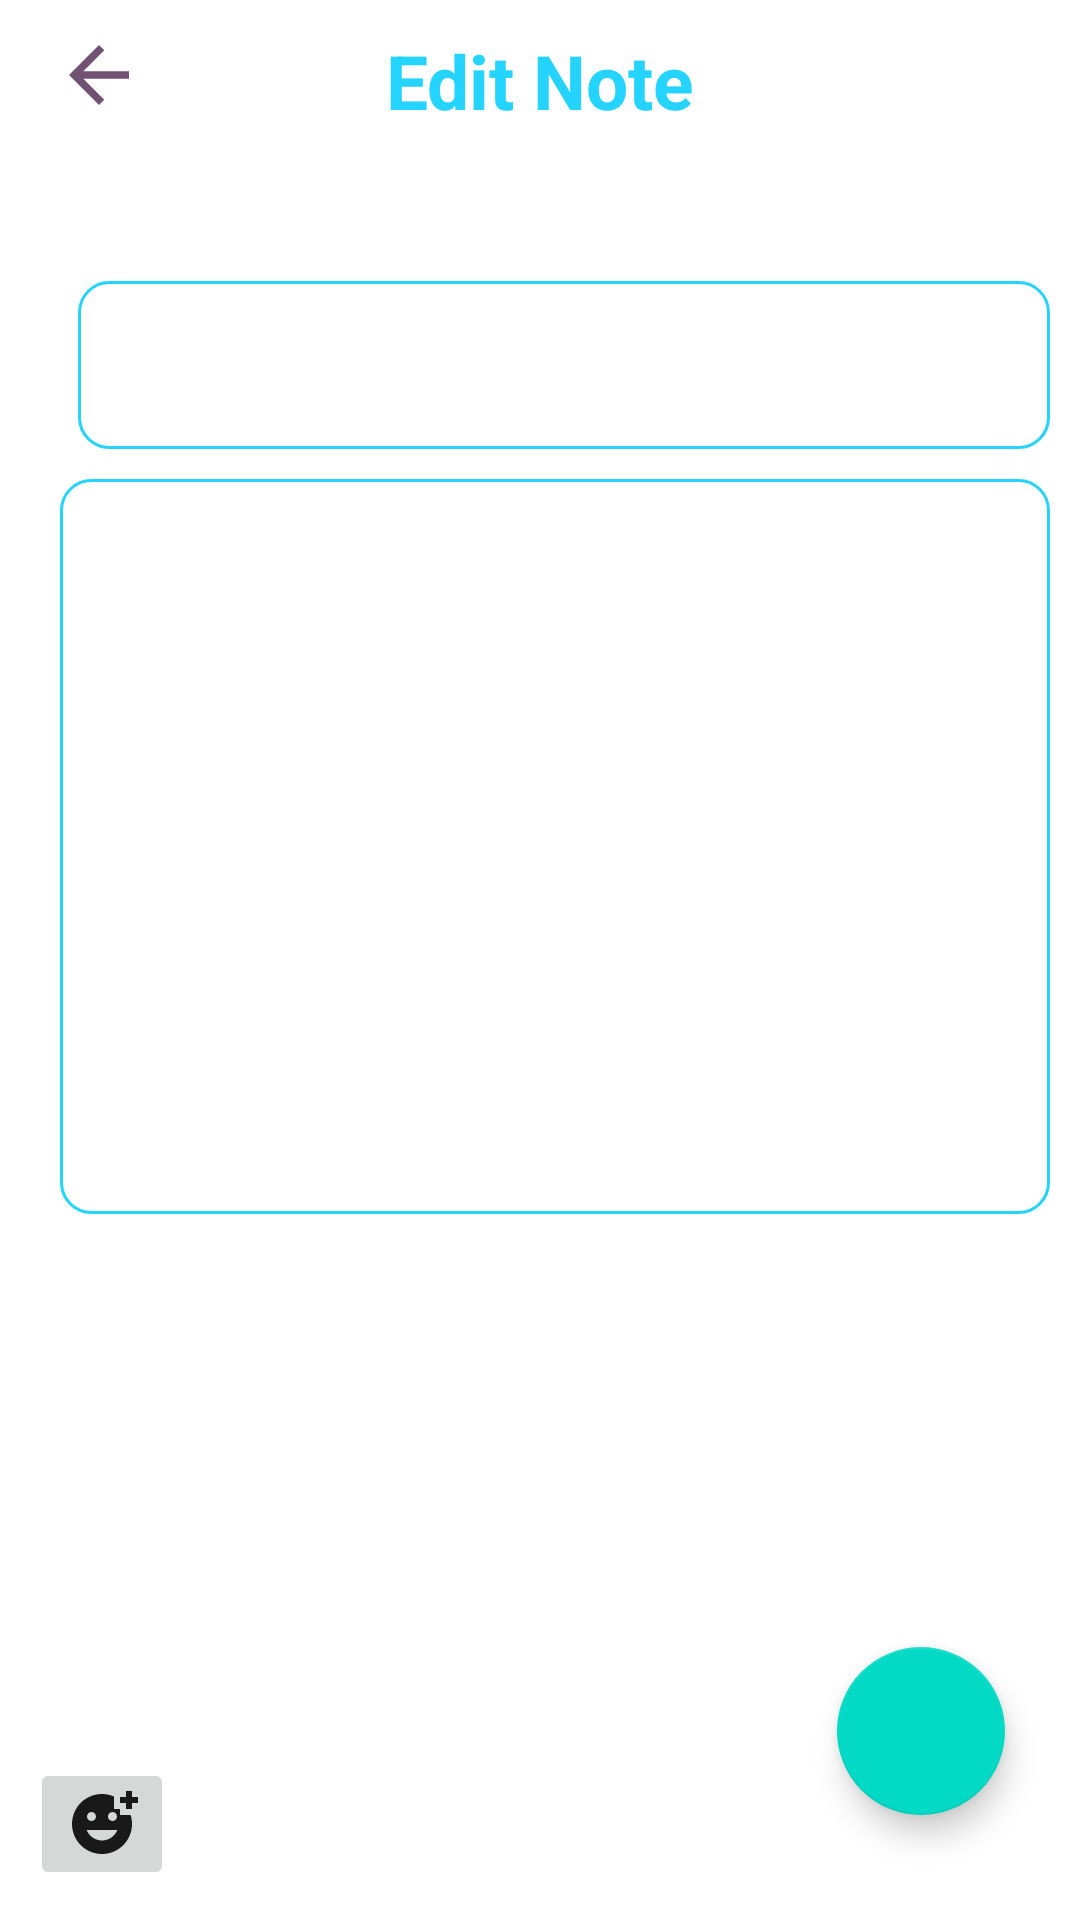

Icon click points for this 1080px x 1920px phone screenshot, format (x,y):
back: (99,75)
reaction: (102,1824)
